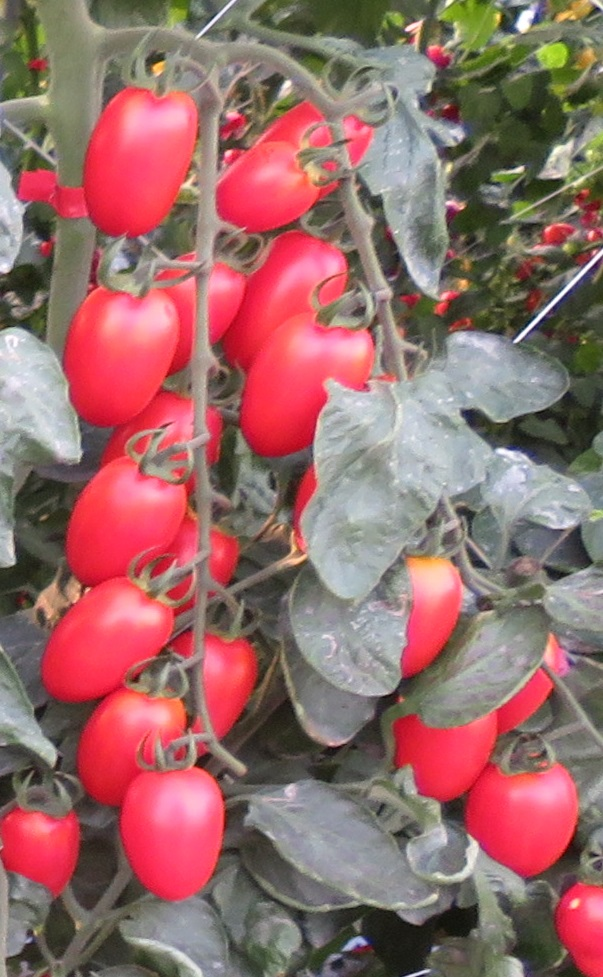red: (240, 300, 375, 452), (76, 86, 197, 239), (43, 572, 182, 699), (64, 278, 178, 431), (114, 754, 232, 901), (64, 444, 188, 583), (226, 233, 347, 369), (470, 755, 581, 884), (71, 682, 178, 802), (155, 251, 245, 374), (206, 142, 331, 227), (174, 630, 257, 758), (393, 701, 497, 802), (1, 791, 86, 910), (394, 554, 463, 678)
